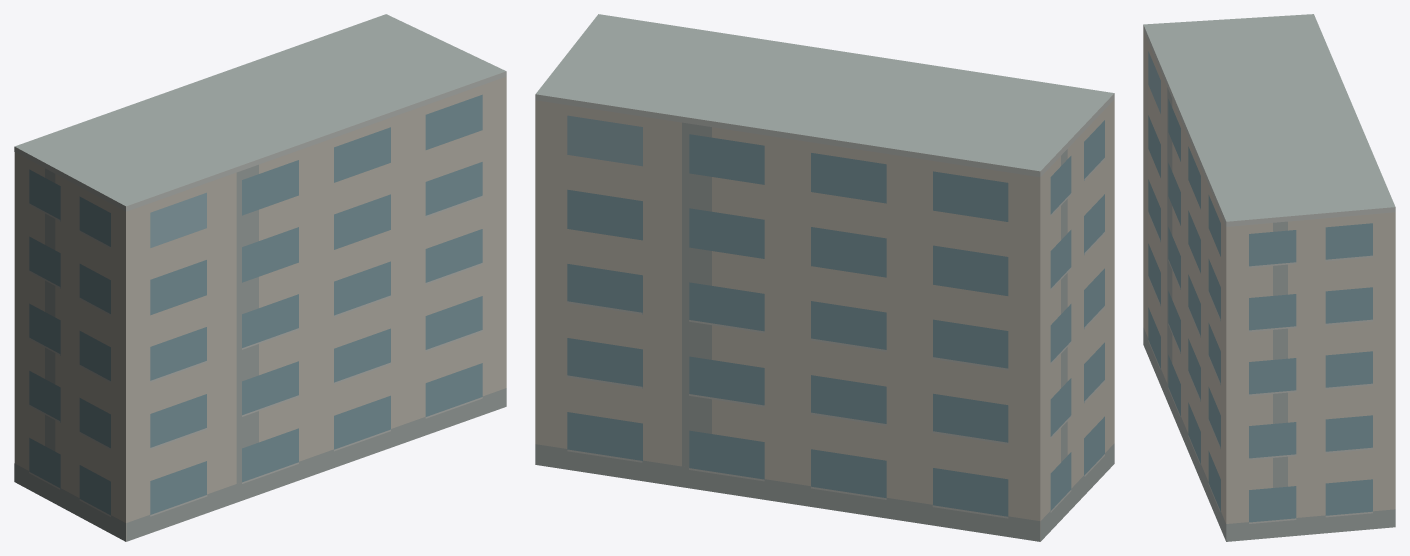
File: survey-upis-32782055.glb
3 views of the same model, side by side, from view 1: azimuth 30°, elevation 25°; view 2: azimuth 150°, elevation 25°; view 3: azimuth 270°, elevation 25° (orthographic). The views are drawn at different scales.
Parts seen in each view (by area): view 1: survey-upis-32782055.tmp; view 2: survey-upis-32782055.tmp; view 3: survey-upis-32782055.tmp.
Part boxes in pixels (x1,y1,x2,y2): survey-upis-32782055.tmp: [14, 14, 506, 541]; survey-upis-32782055.tmp: [535, 14, 1114, 541]; survey-upis-32782055.tmp: [1143, 14, 1395, 541].
Bounding box in the file's own units: 21.23 × 15.25 × 10.9.
